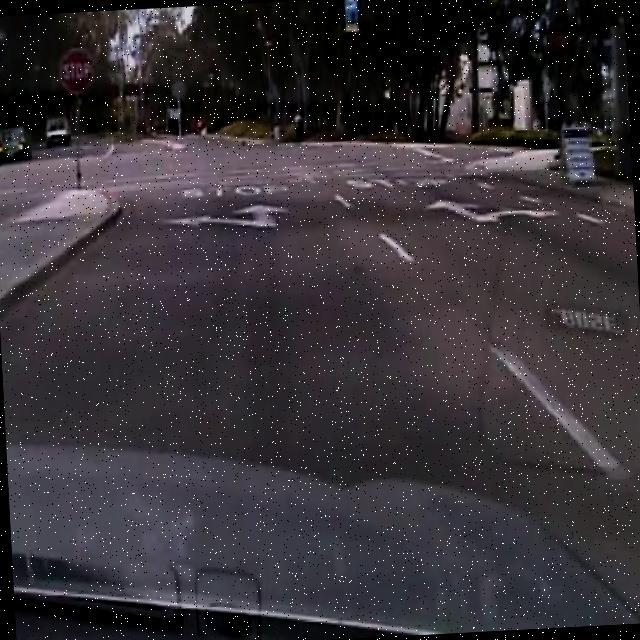Stop: (57, 48, 100, 99)
